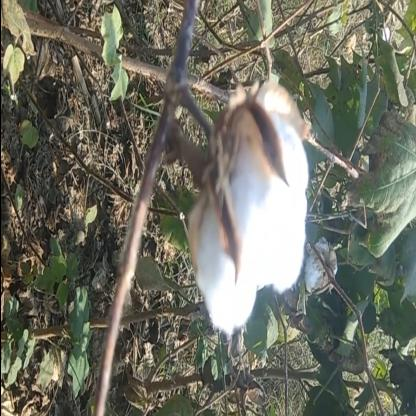cotton_ready: (132, 47, 338, 334)
